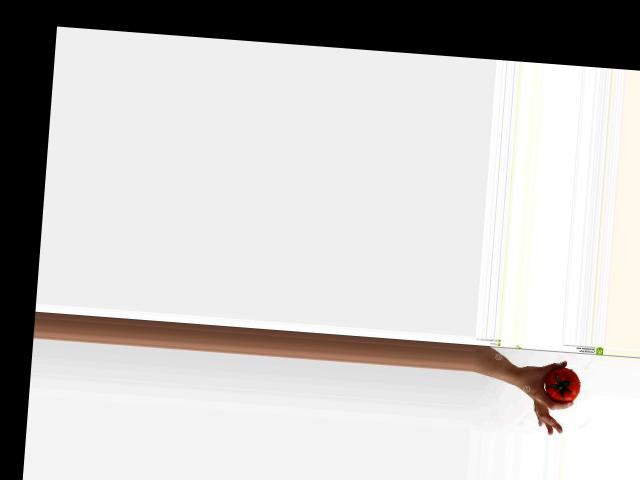tomato: (543, 366, 581, 403)
